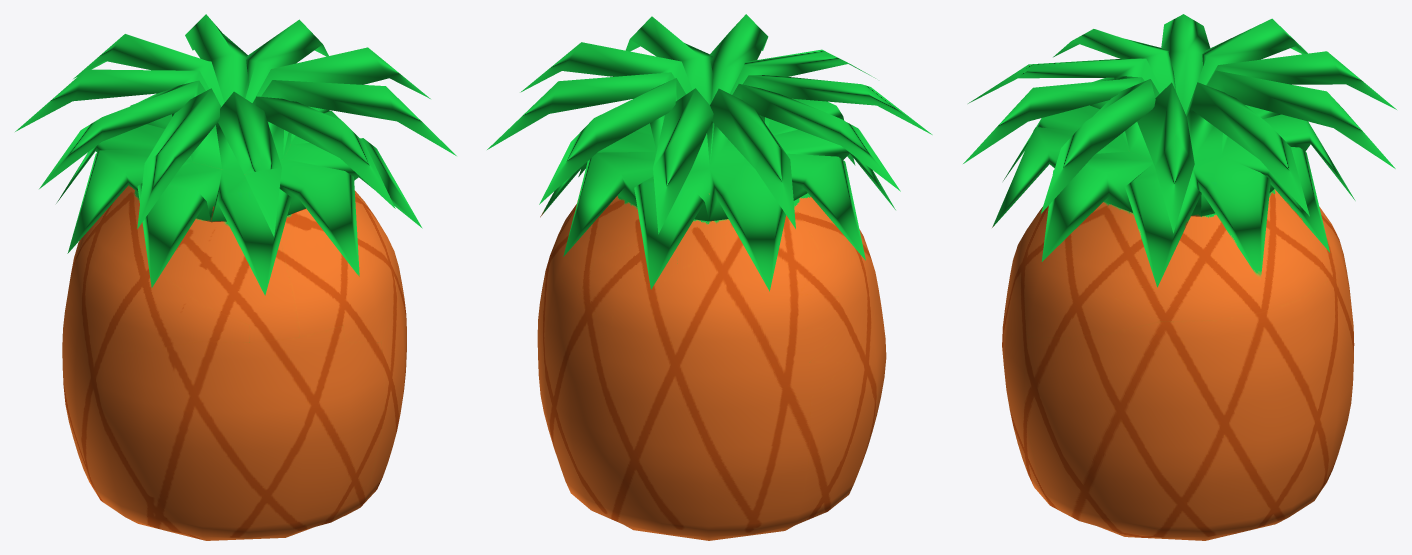
File: Pineapple.fbx
The picture shows the model from 3 angles, left to right: view 1: azimuth 30°, elevation 25°; view 2: azimuth 150°, elevation 25°; view 3: azimuth 270°, elevation 25°; orthographic projection.
Visible parts, largest first — view 1: node_id4; view 2: node_id4; view 3: node_id4.
Boxes of the visible parts, bbox=[...] form: node_id4: bbox=[15, 14, 456, 540]; node_id4: bbox=[487, 14, 932, 540]; node_id4: bbox=[963, 14, 1396, 540].
Size of the model in its own units: 0.4939 by 0.512 by 0.473.
1 material, 1 textured.
